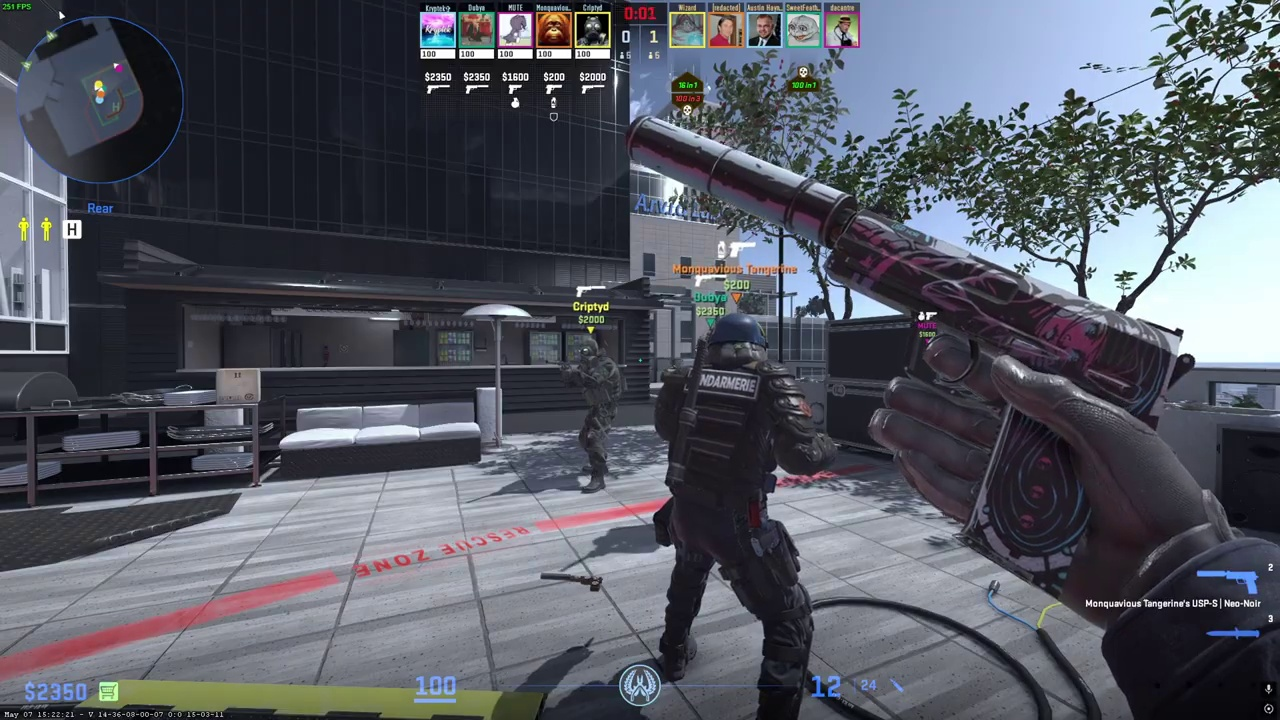CT: (654, 313, 822, 718), (566, 339, 622, 493)
